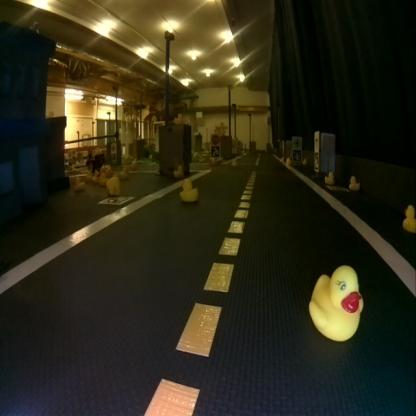Duckie: (308, 264, 363, 339), (179, 178, 197, 201), (402, 205, 413, 227), (106, 176, 120, 193), (348, 175, 359, 190), (173, 164, 183, 176), (324, 172, 334, 182), (232, 158, 236, 166)
Intersection sign: (292, 137, 300, 147)
QR code: (98, 196, 134, 204), (326, 184, 347, 191), (313, 152, 319, 170), (210, 145, 218, 156), (292, 150, 300, 161)
Stop sign: (211, 134, 219, 144)
